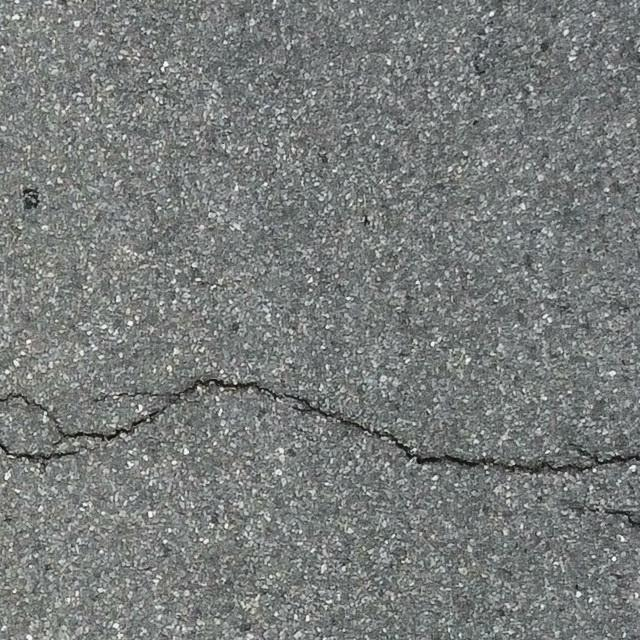TransverseCrack: (1, 378, 640, 473)
